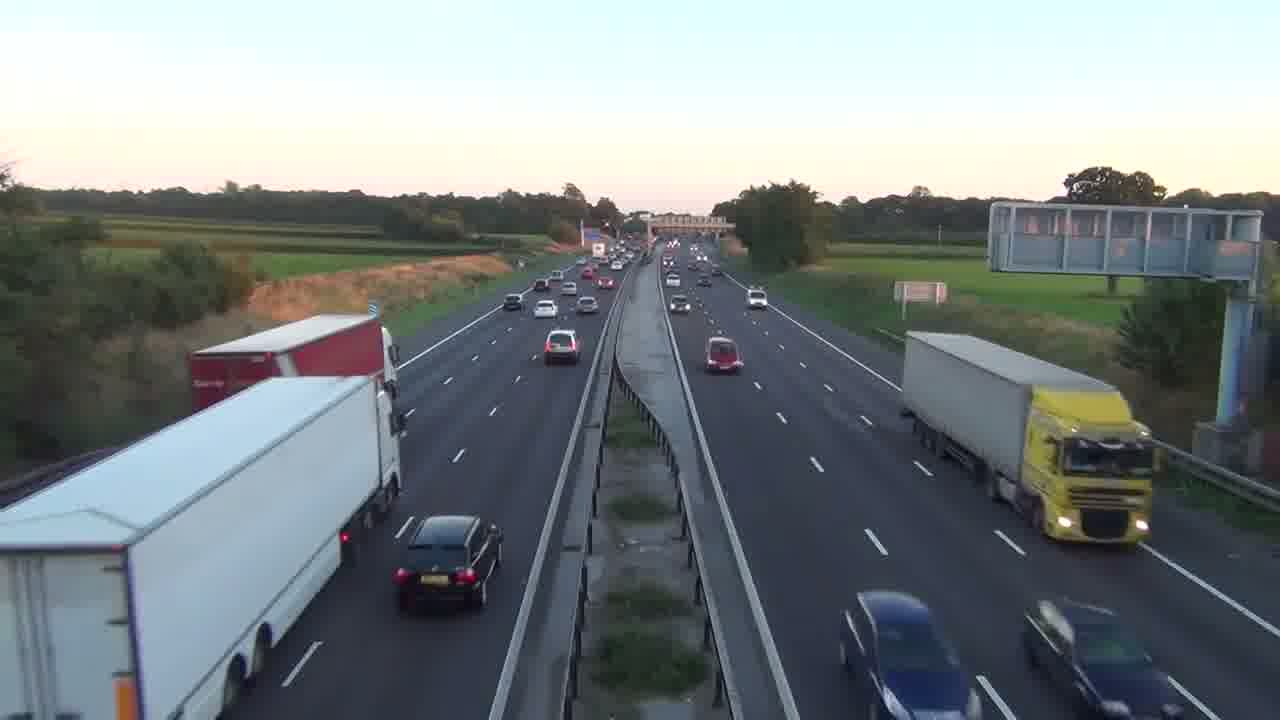car: (840, 589, 968, 718), (390, 513, 504, 614), (704, 335, 744, 374), (543, 328, 581, 364), (746, 285, 768, 310), (574, 295, 599, 315), (533, 299, 557, 316), (504, 293, 524, 310)
truck: (1, 373, 401, 716), (898, 330, 1156, 549)
